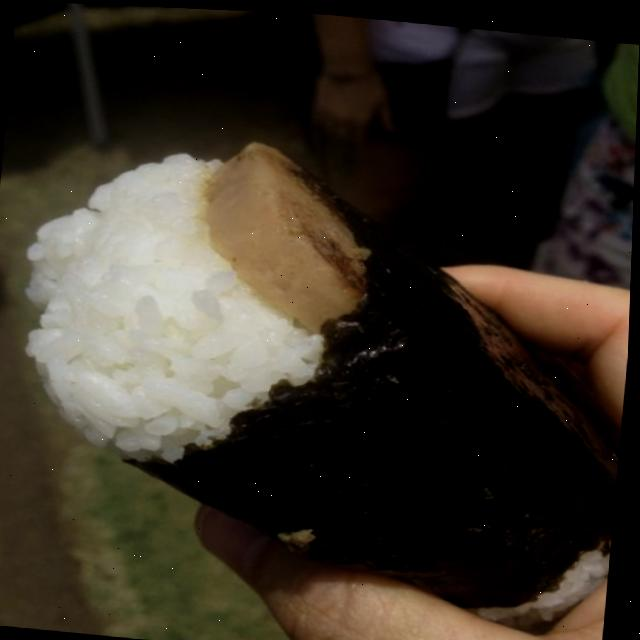寿司卷物: (0, 58, 638, 637)
